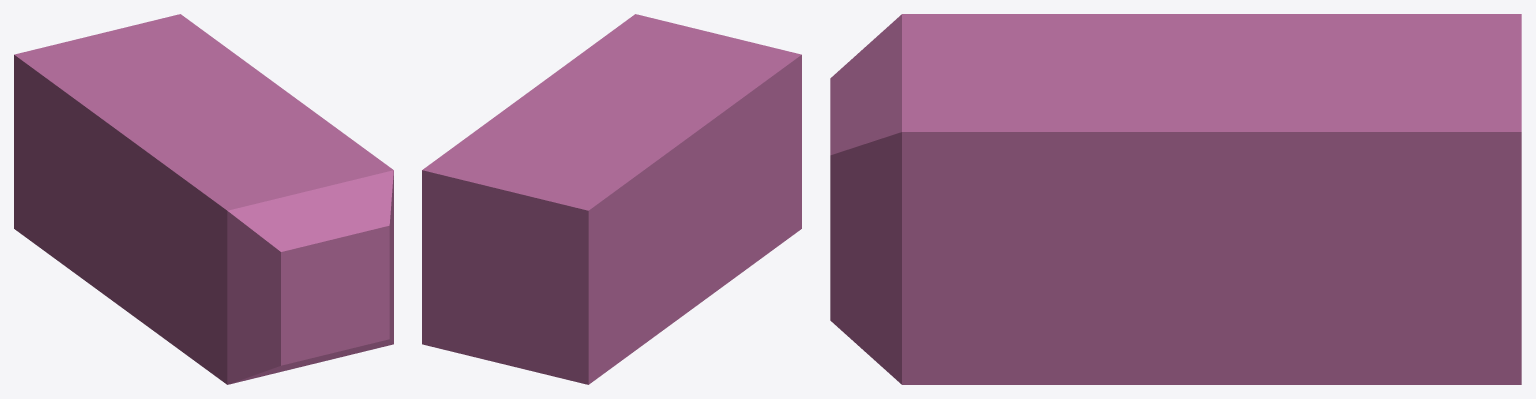
The model's file is Eraser.fbx.
3 views of the same model, side by side, from view 1: azimuth 30°, elevation 25°; view 2: azimuth 150°, elevation 25°; view 3: azimuth 270°, elevation 25° (orthographic). The views are drawn at different scales.
Parts seen in each view (by area): view 1: Eraser; view 2: Eraser; view 3: Eraser.
Part boxes in pixels (x1=…): Eraser: x1=14, y1=14, x2=393, y2=384; Eraser: x1=422, y1=14, x2=801, y2=384; Eraser: x1=830, y1=14, x2=1521, y2=384.
Size of the model in its own units: 200 by 200 by 495.
